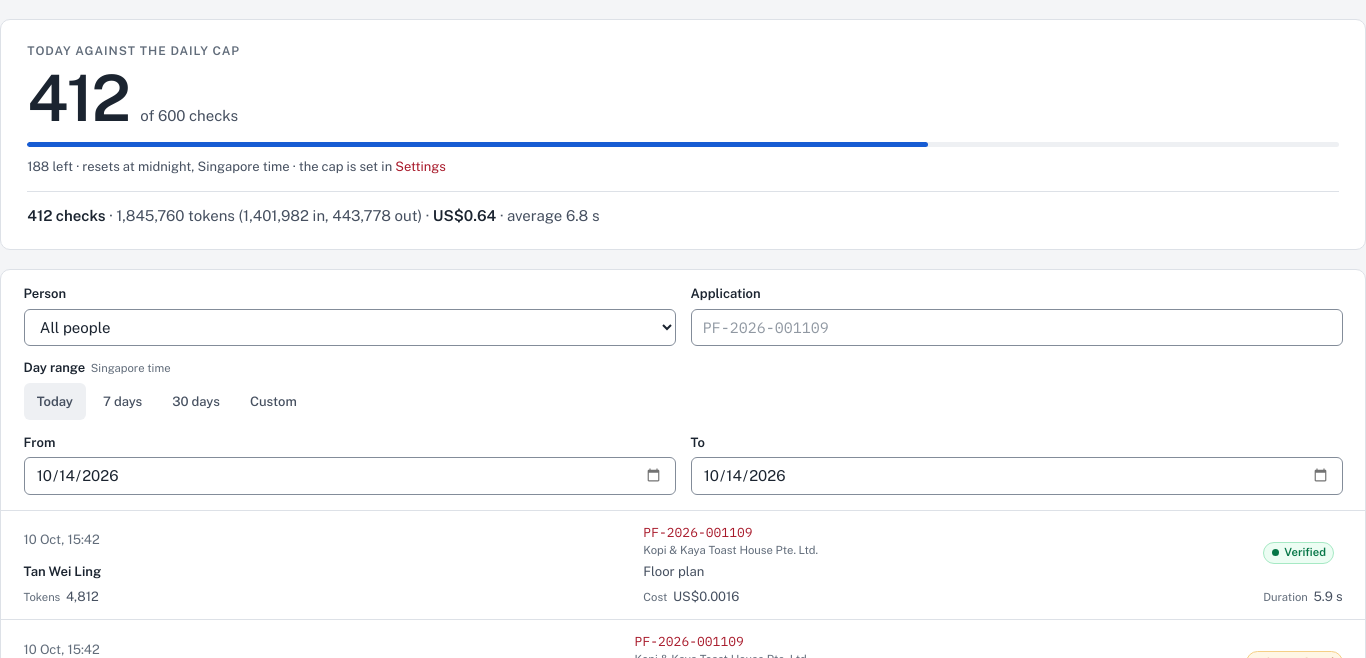
AI usage (US-100) › writes the filters to the address and asks the server for them
Check: the text "of 600 checks" is shown, box [140,105,238,128]
Select "Tan Wei Ling" in the dropdown labelled "Person" at (350, 327), box [24,309,676,346]
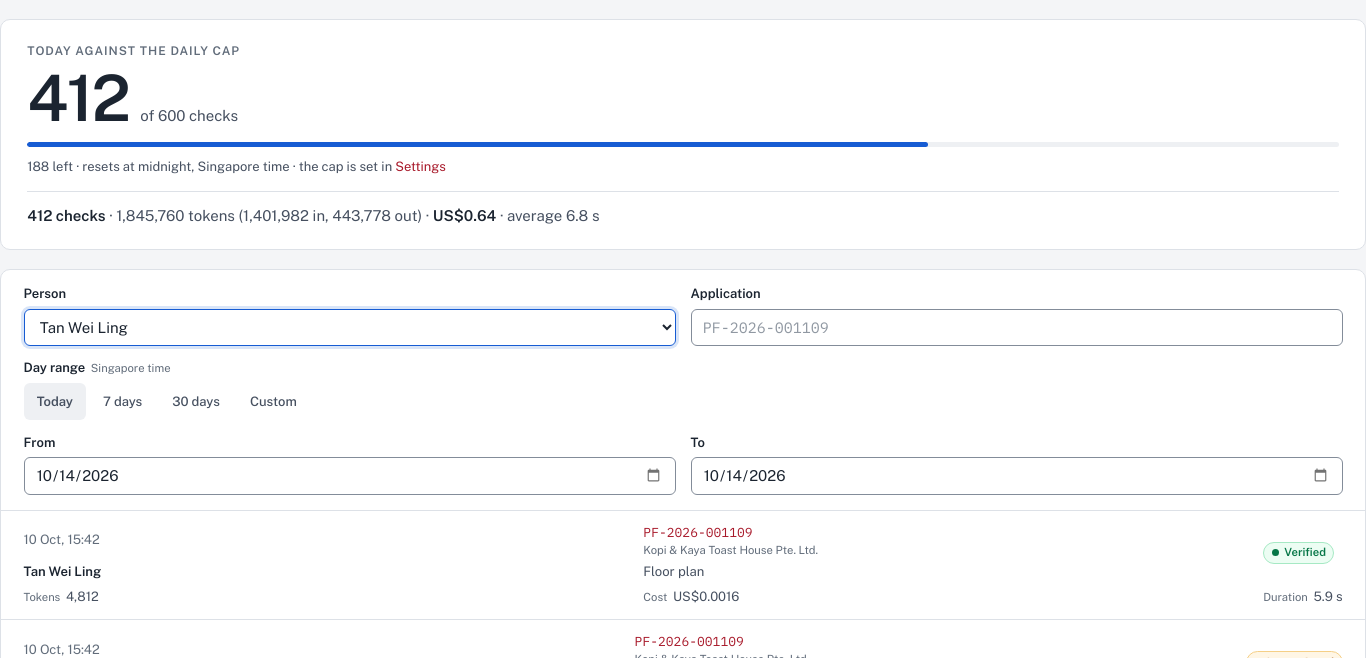
Click the button "7 days" at (123, 402), box [90,383,155,420]
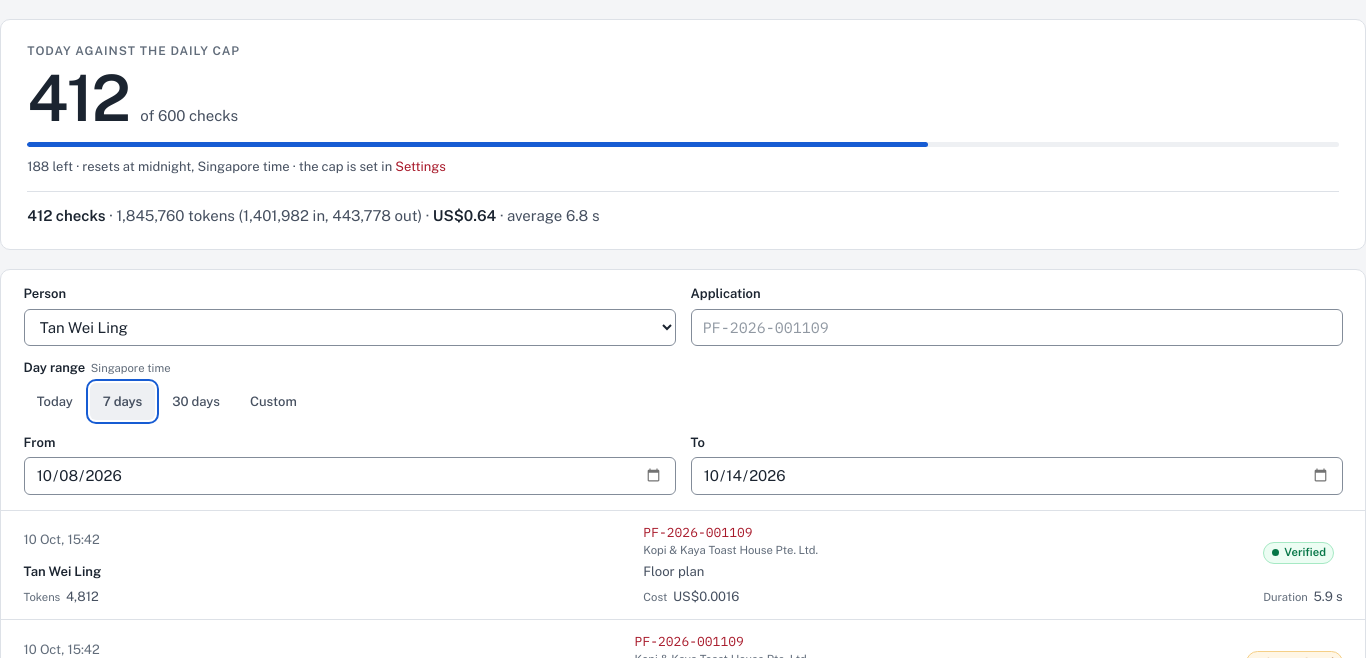
Check: the button "7 days" is pressed, box [90,383,155,420]
Type "pf-2026-001109" into the field labelled "Application" at (1016, 327), box [690,309,1342,346]
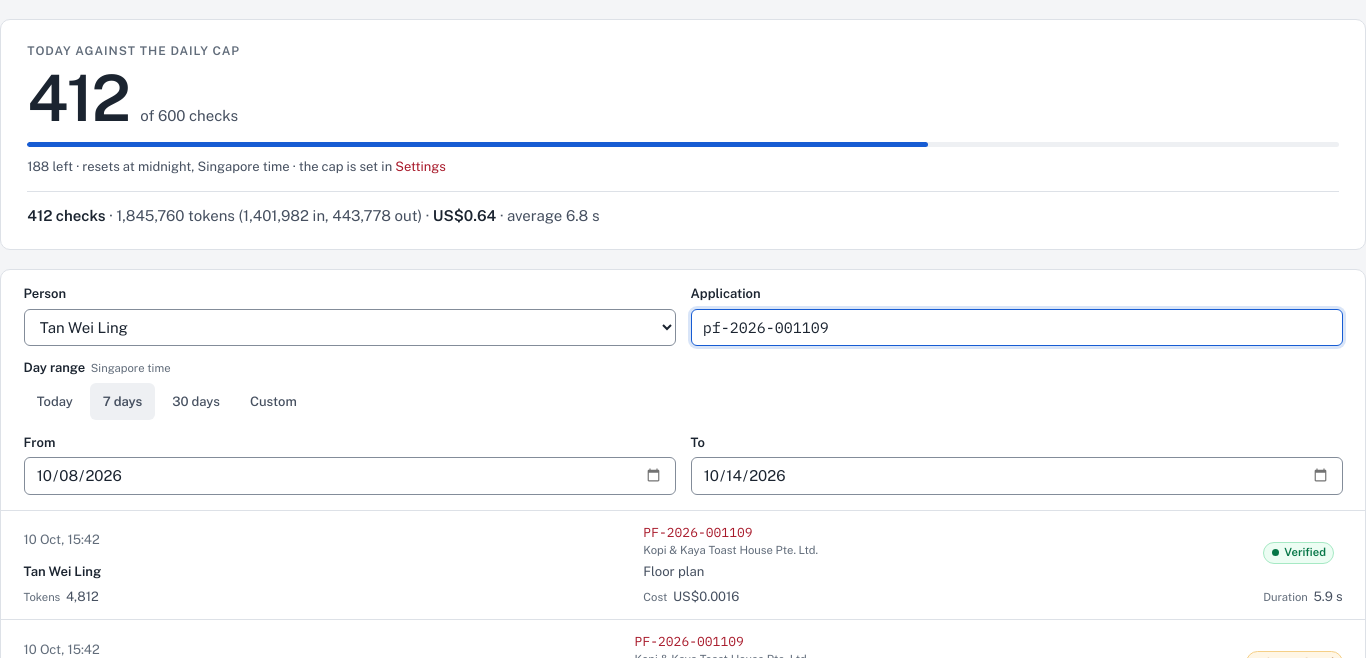
Press Enter
(page scrolled)
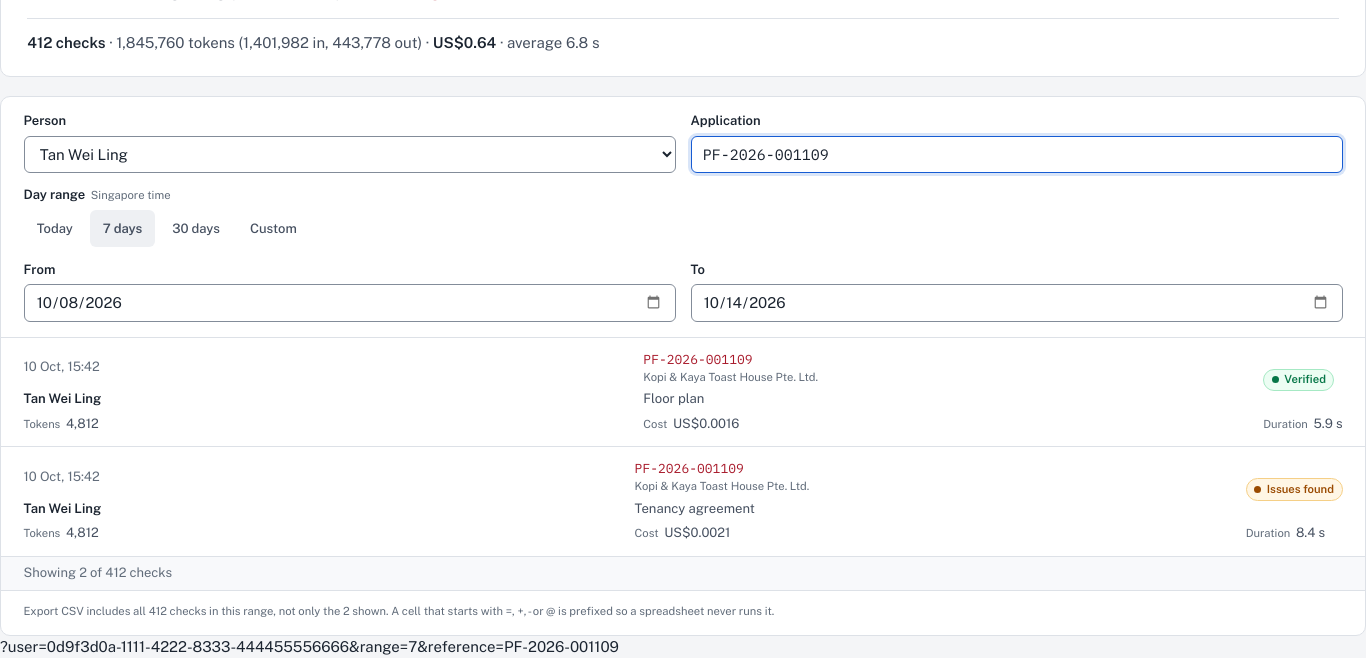
Check: the text with test id "where" shows "reference=PF-2026-001109", box [0,638,619,655]
